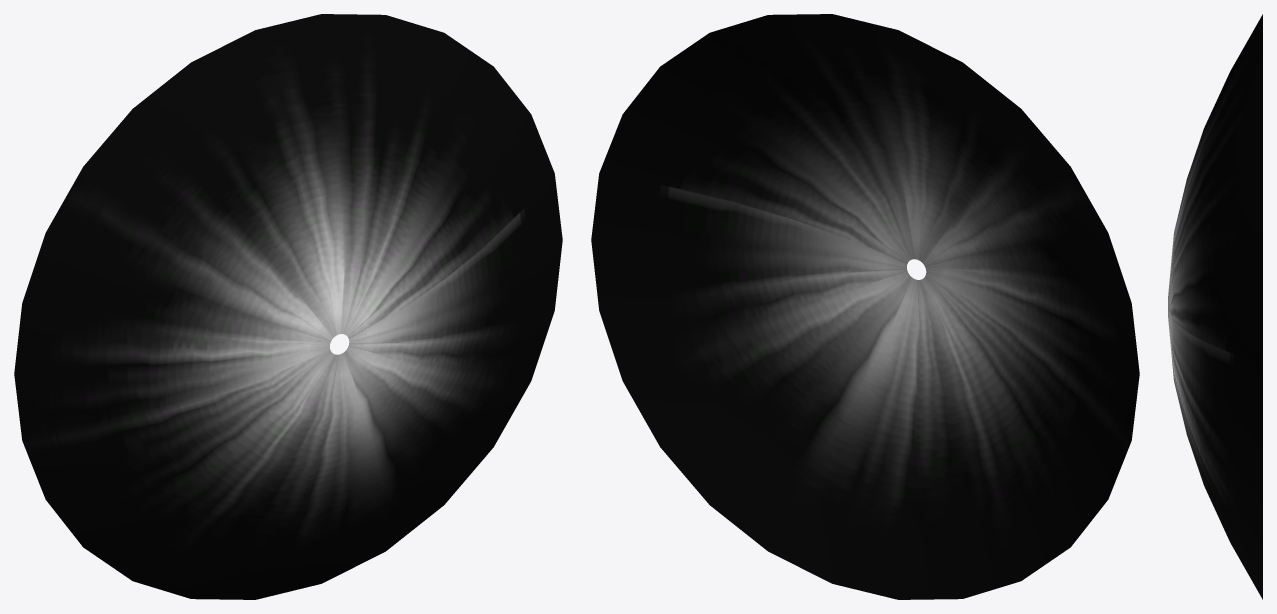
Rendered from shield.fbx.
3 views of the same model, side by side, from view 1: azimuth 30°, elevation 25°; view 2: azimuth 150°, elevation 25°; view 3: azimuth 270°, elevation 25° (orthographic). The views are drawn at different scales.
Parts seen in each view (by area): view 1: shield; view 2: shield; view 3: shield.
Boxes of the visible parts, x1,y1,x2,y2 form: shield: [14, 14, 562, 599]; shield: [591, 14, 1139, 599]; shield: [1168, 14, 1262, 599].
Bounding box in the file's own units: 7.97 × 7.92 × 1.29.
